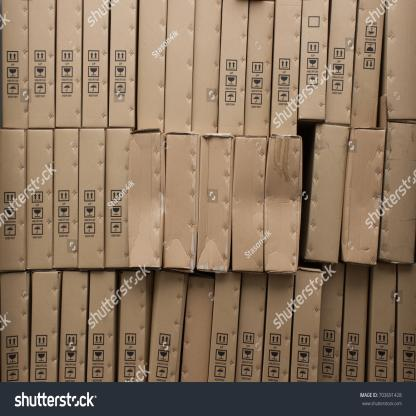box: (305, 125, 349, 263), (344, 128, 386, 263), (378, 123, 416, 263), (264, 136, 302, 273), (196, 135, 233, 275), (163, 134, 199, 271), (232, 137, 267, 275), (146, 271, 188, 381), (131, 132, 164, 268), (176, 272, 216, 382), (271, 0, 302, 137), (352, 0, 385, 127), (217, 0, 248, 134), (312, 262, 345, 382), (206, 274, 242, 382), (245, 0, 274, 134), (136, 0, 165, 133), (165, 0, 194, 133), (326, 0, 357, 124), (0, 130, 27, 272), (234, 271, 268, 383), (260, 274, 294, 384), (193, 0, 221, 133), (290, 270, 323, 382), (385, 0, 416, 119), (28, 129, 54, 270), (0, 0, 28, 130), (79, 129, 105, 269), (105, 129, 131, 268), (367, 262, 397, 382), (53, 127, 78, 270), (108, 0, 136, 127), (340, 265, 370, 383), (300, 0, 329, 119), (82, 0, 109, 127), (60, 270, 90, 382), (86, 271, 116, 383), (56, 0, 82, 128), (118, 271, 148, 380), (0, 272, 29, 382), (30, 0, 55, 127), (31, 272, 60, 381), (394, 262, 416, 381)
